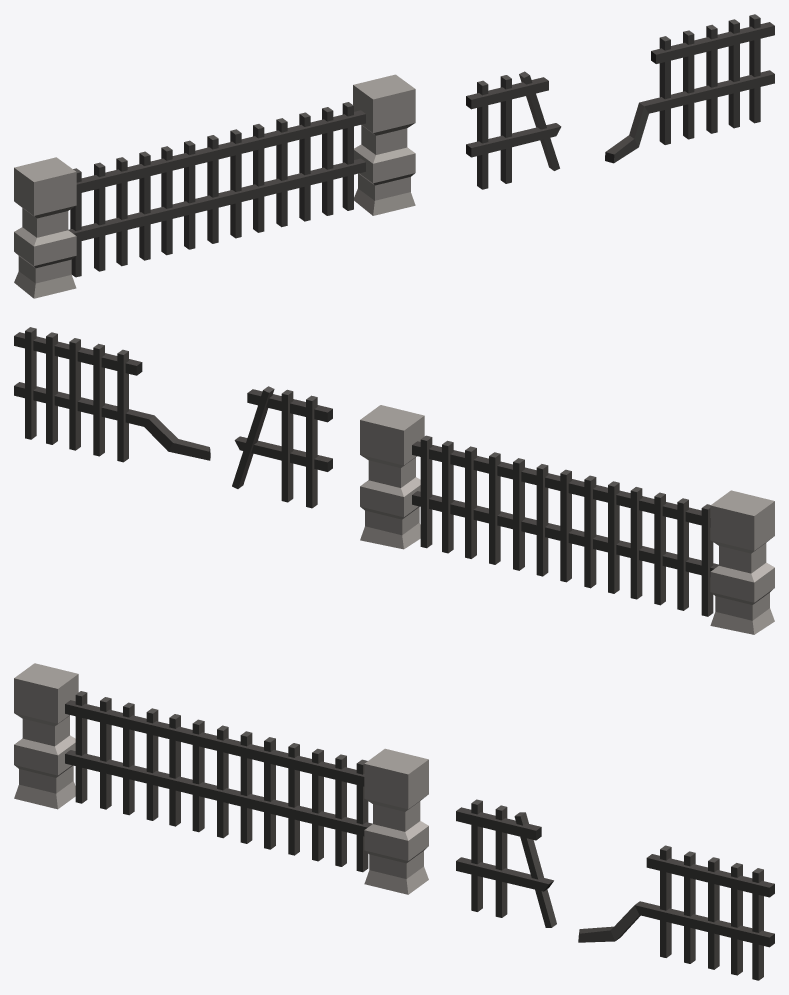
File: fence.fbx
3 renders of one model, top to bottom at view 1: azimuth 30°, elevation 25°; view 2: azimuth 150°, elevation 25°; view 3: azimuth 330°, elevation 25°, orthographic. The views are drawn at different scales.
Parts seen in each view (by area): view 1: huitugou_2015_33.001, huitugou_2015_30, huitugou_2015_33, huitugou_2015_33.002; view 2: huitugou_2015_33.001, huitugou_2015_30, huitugou_2015_33, huitugou_2015_33.002; view 3: huitugou_2015_33.001, huitugou_2015_30, huitugou_2015_33.002, huitugou_2015_33.
Part boxes in pixels (x1=…): huitugou_2015_33.001: x1=68, y1=102, x2=365, y2=277; huitugou_2015_30: x1=466, y1=14, x2=774, y2=189; huitugou_2015_33: x1=14, y1=157, x2=76, y2=298; huitugou_2015_33.002: x1=353, y1=74, x2=415, y2=215; huitugou_2015_33.001: x1=412, y1=435, x2=718, y2=616; huitugou_2015_30: x1=14, y1=327, x2=332, y2=508; huitugou_2015_33: x1=710, y1=490, x2=774, y2=634; huitugou_2015_33.002: x1=360, y1=405, x2=424, y2=549; huitugou_2015_33.001: x1=65, y1=691, x2=372, y2=872; huitugou_2015_30: x1=456, y1=799, x2=774, y2=980; huitugou_2015_33.002: x1=363, y1=748, x2=428, y2=894; huitugou_2015_33: x1=14, y1=663, x2=78, y2=809.
Size of the model in its own units: 1080 by 163 by 93.67.
1 material, 1 textured.
